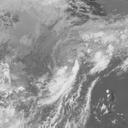cyclone: (44, 50, 102, 109)
